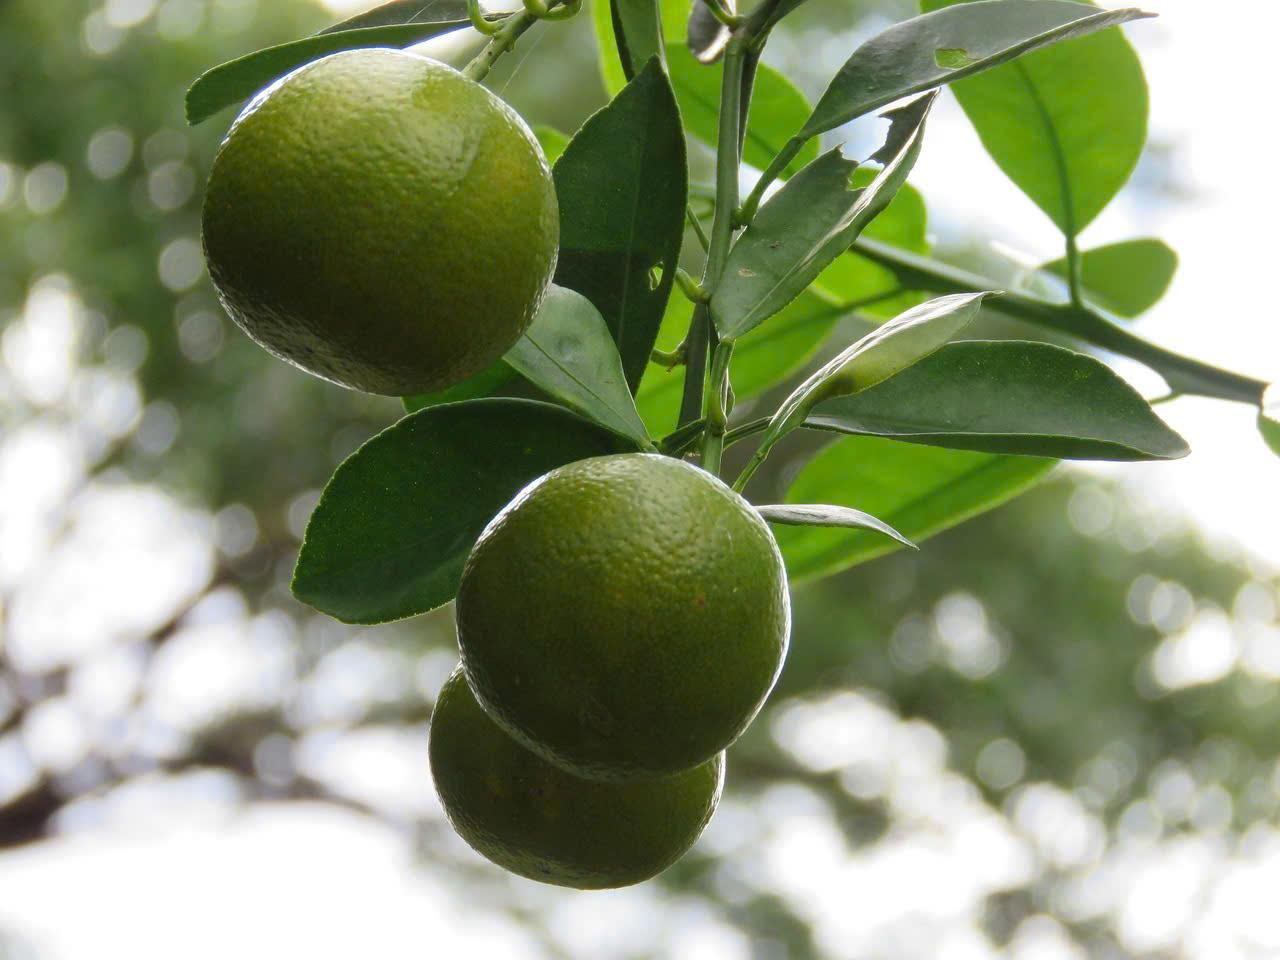lime: (218, 38, 558, 450), (451, 458, 790, 851)
